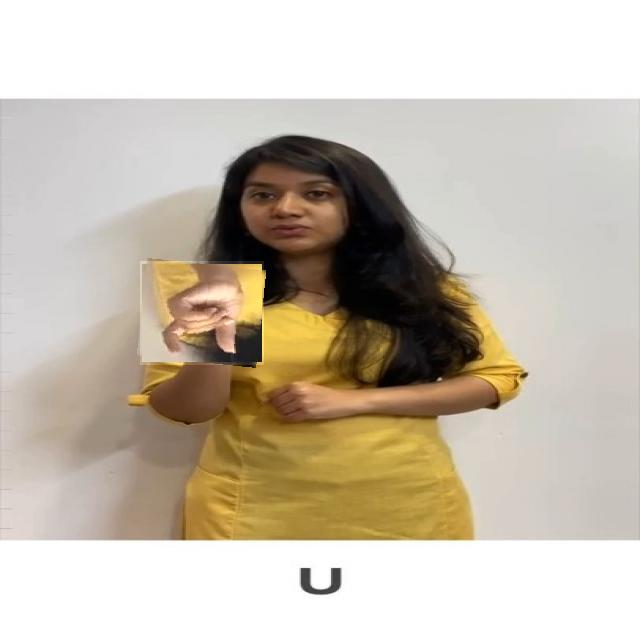U: (140, 261, 264, 365)
